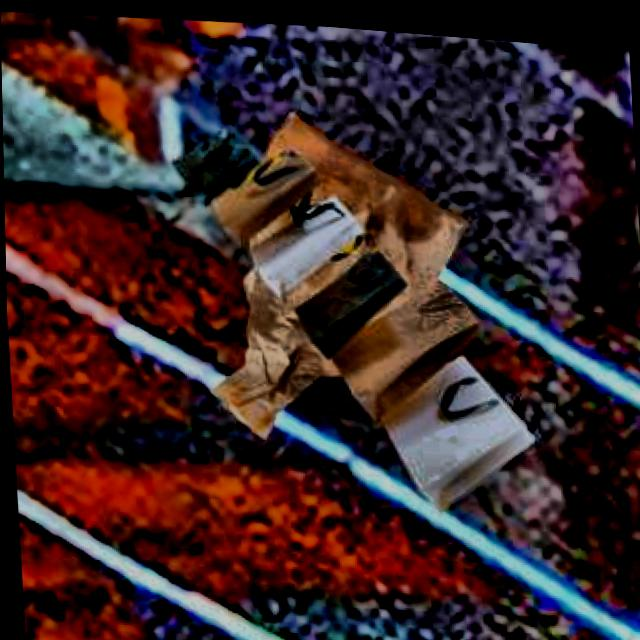Paper-bag: (191, 99, 556, 528)
